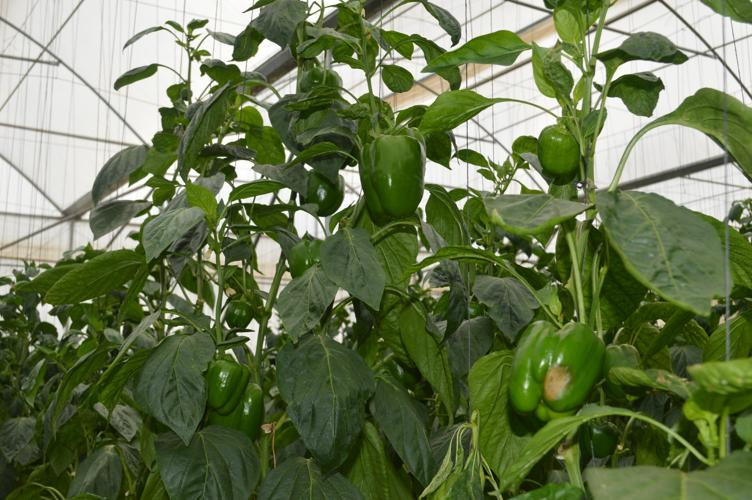BellPepper: (507, 321, 599, 418), (357, 137, 422, 216), (207, 388, 266, 437), (200, 361, 247, 413), (537, 127, 580, 181), (601, 344, 638, 398), (296, 172, 345, 210), (287, 238, 323, 275), (225, 301, 250, 329)
